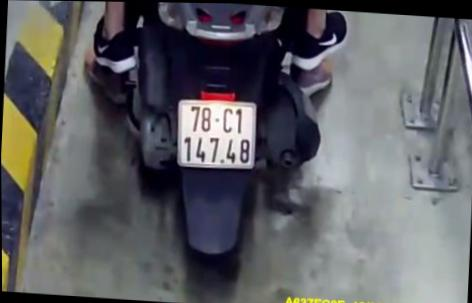LP: (174, 95, 260, 170)
